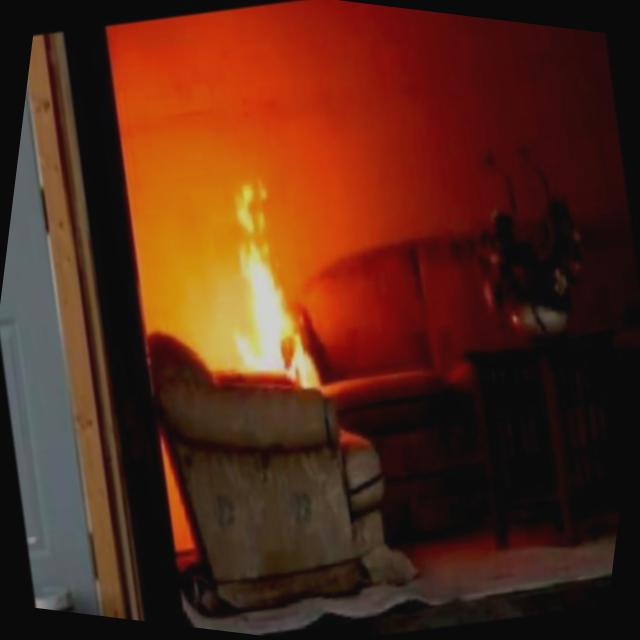fire: (183, 149, 350, 398)
